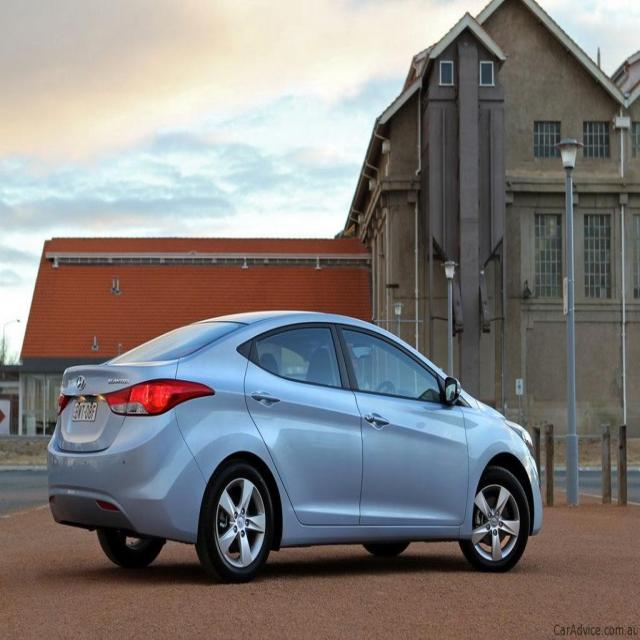Car: (25, 310, 546, 568)
